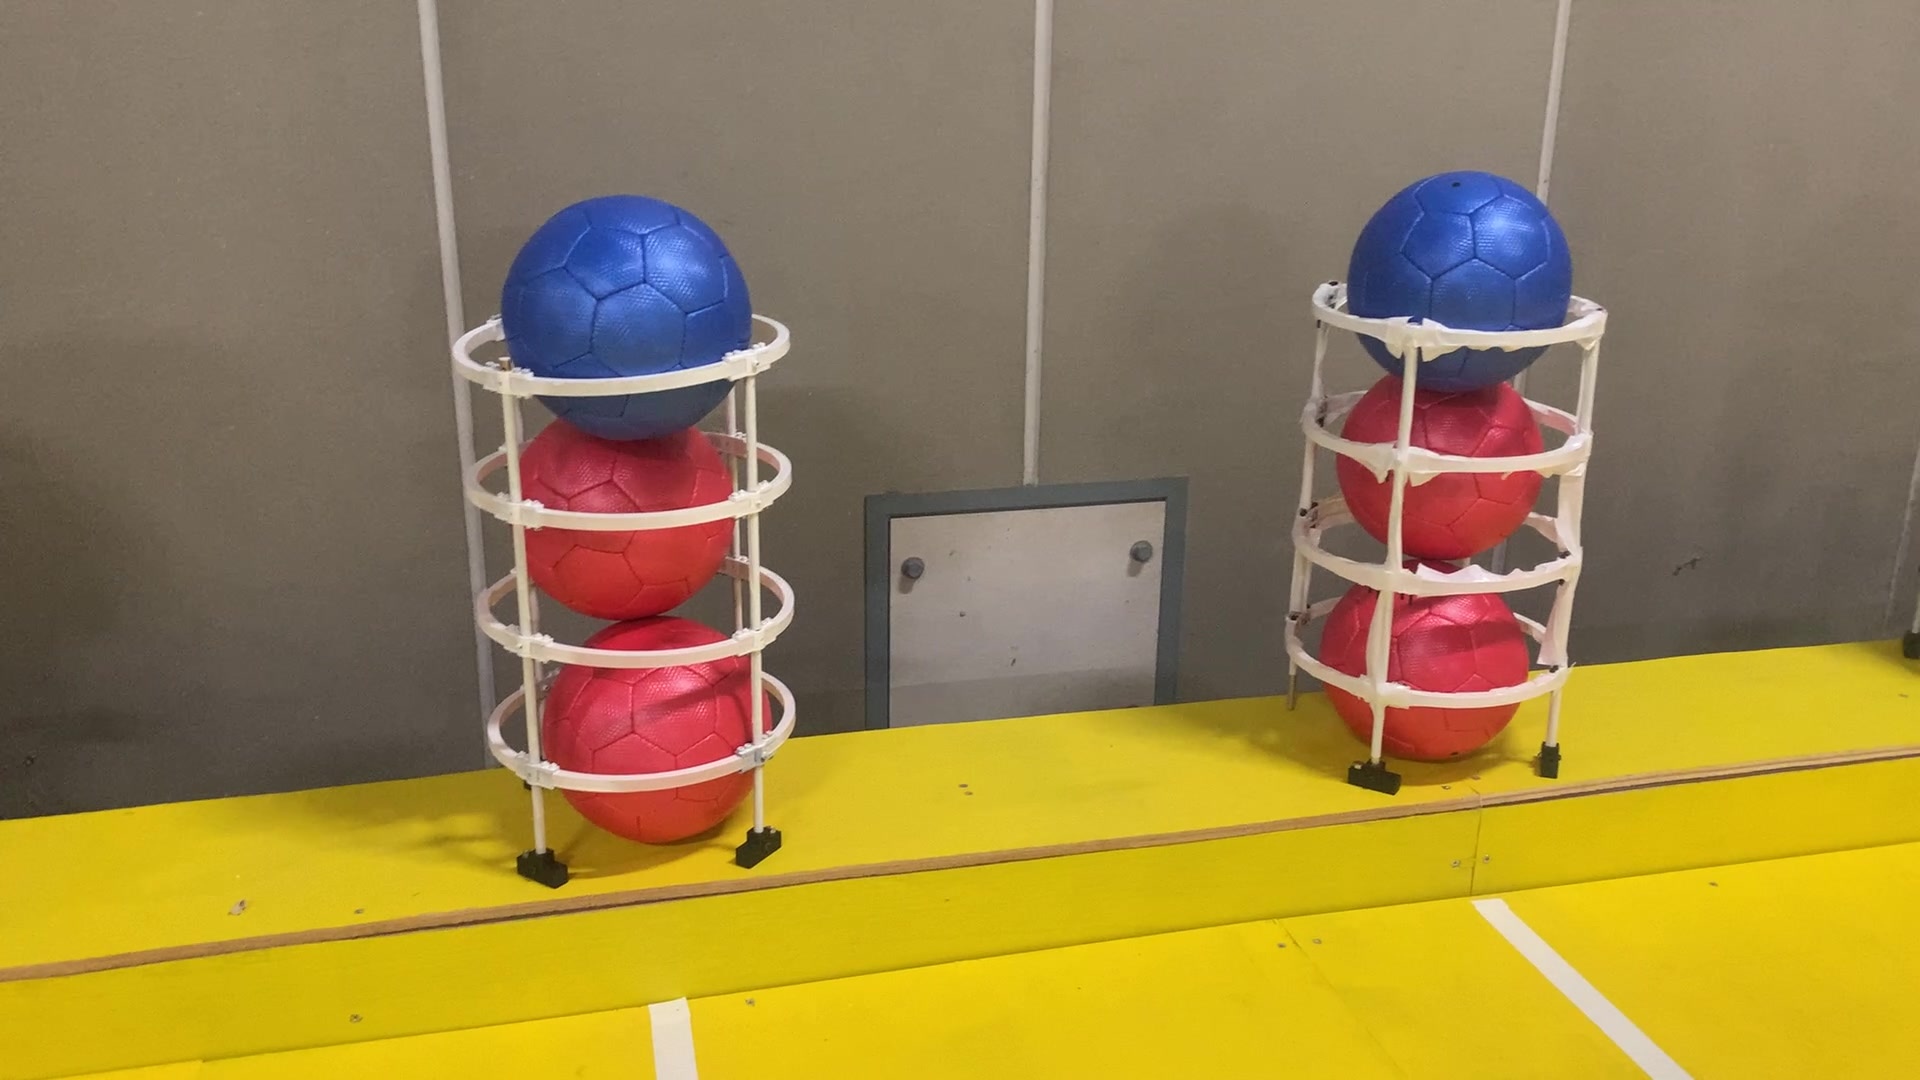blue: (498, 189, 769, 439), (1352, 170, 1578, 392)
red: (537, 608, 778, 847), (512, 407, 741, 624), (1324, 553, 1535, 757), (1340, 355, 1547, 562)
